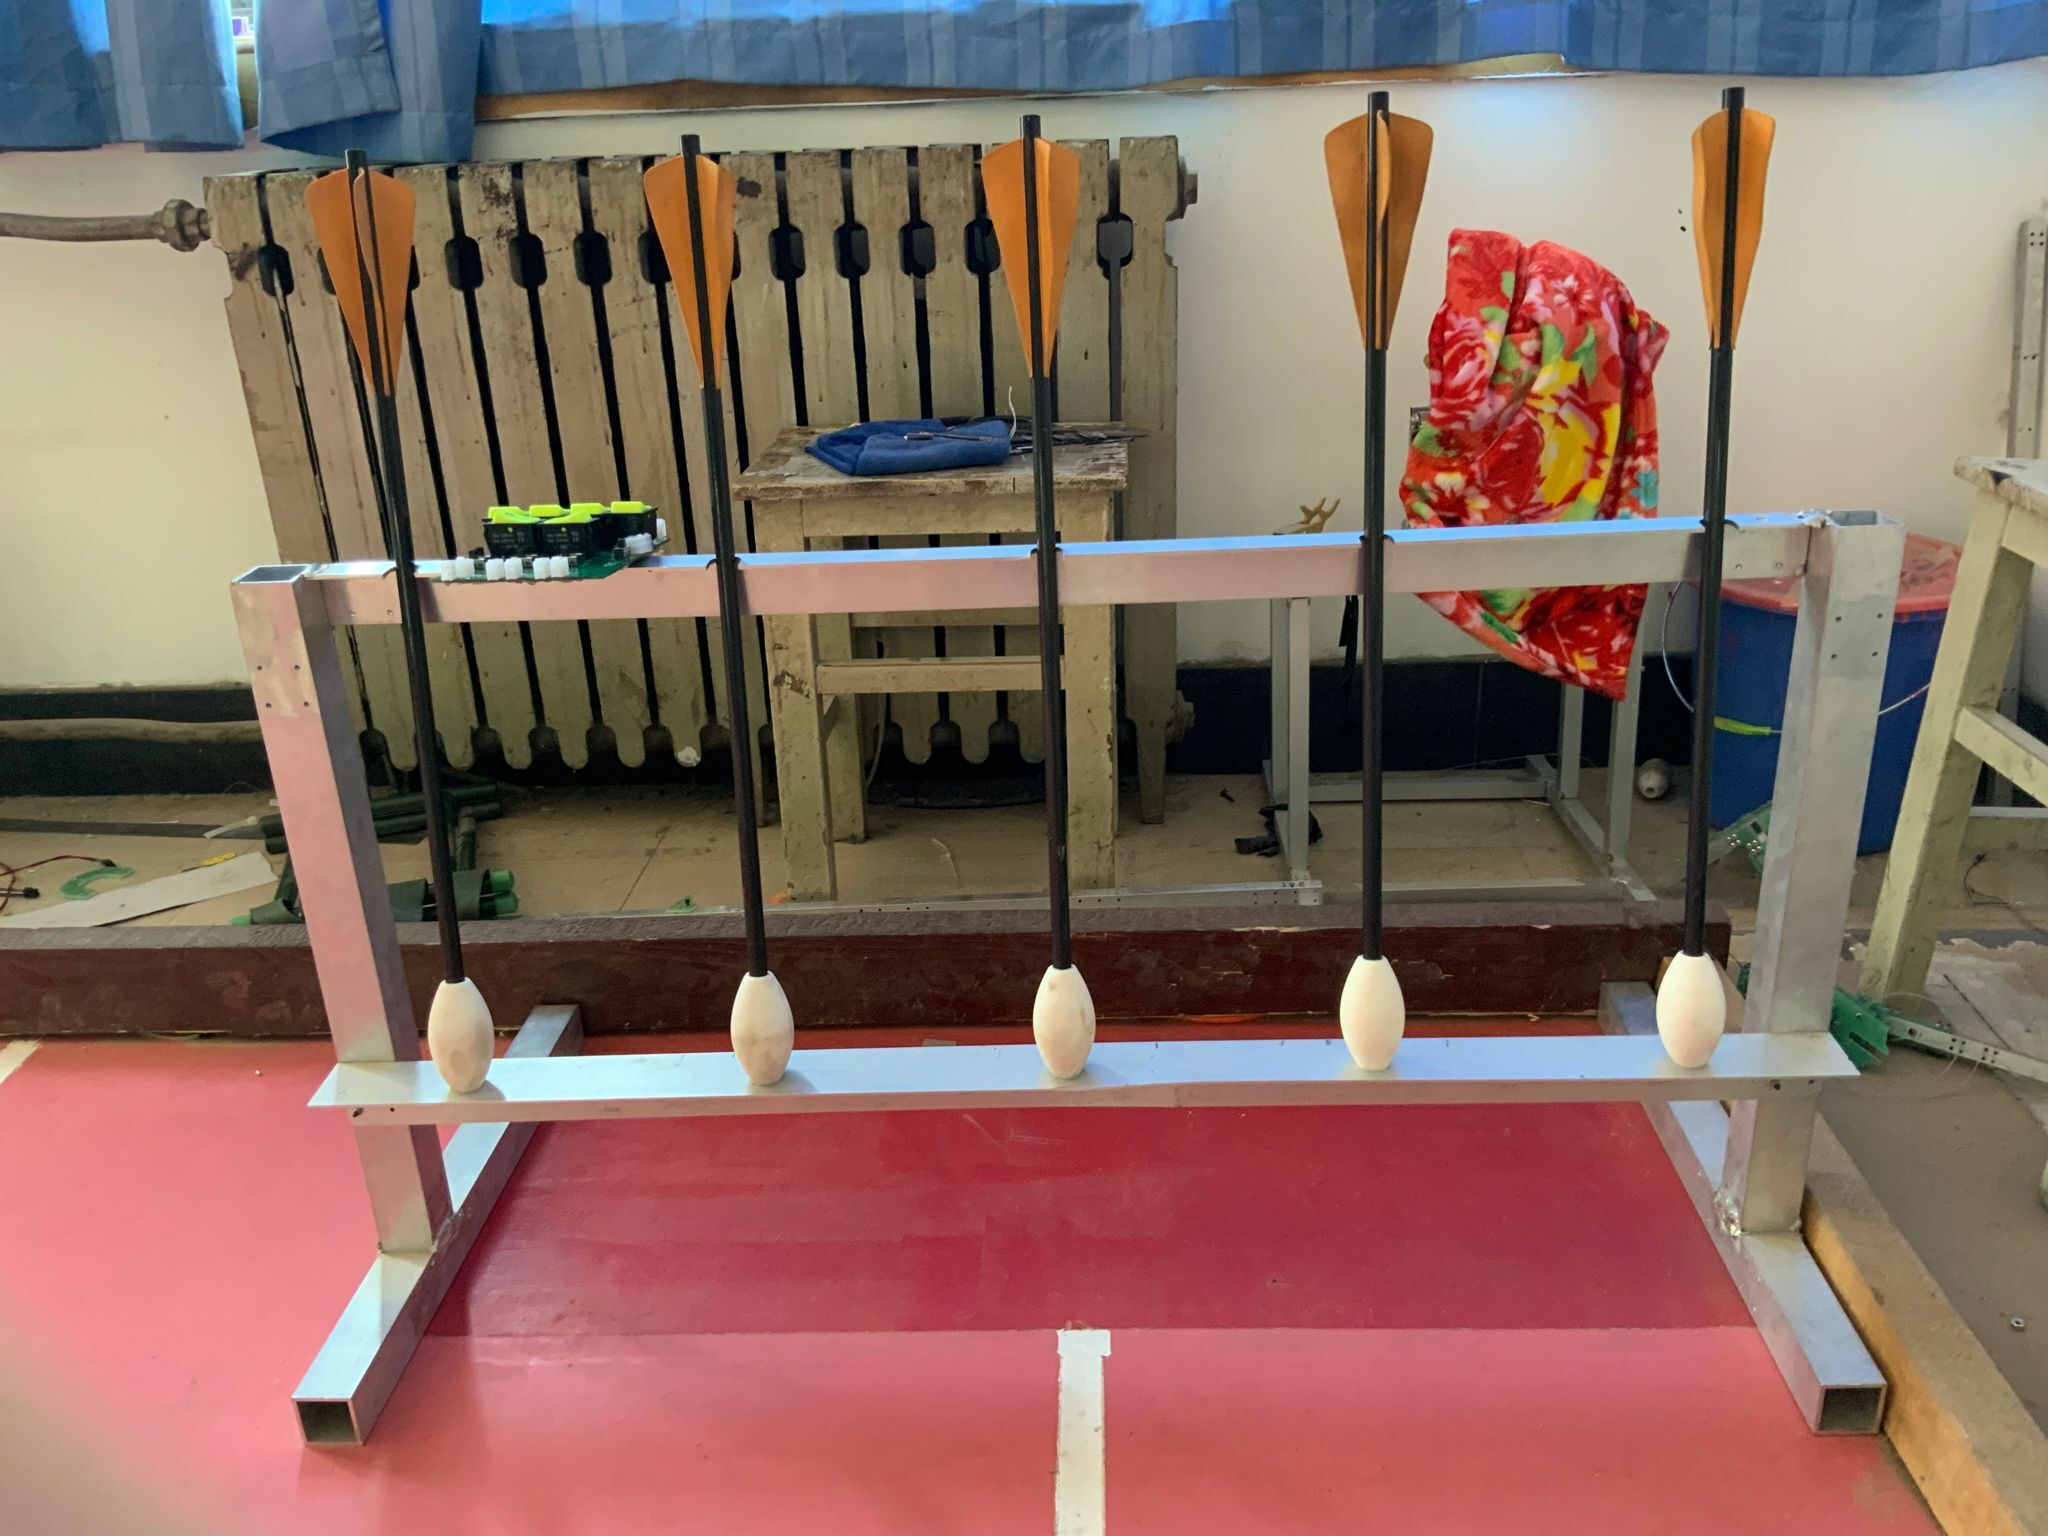arrow: (303, 148, 493, 1099), (637, 132, 797, 1092), (1653, 86, 1779, 1075), (972, 115, 1097, 1081), (1322, 90, 1437, 1091)
arrowFront: (1653, 949, 1725, 1071), (1338, 954, 1406, 1073), (427, 978, 495, 1096), (731, 970, 795, 1087), (1034, 962, 1095, 1083)
